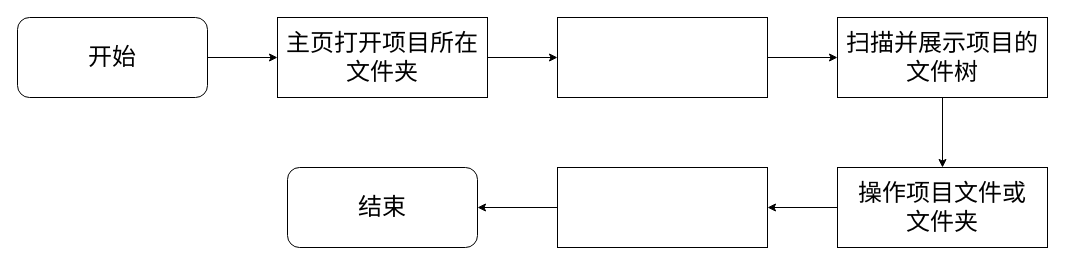
Some shapes in this 1065 by 265 pixel diagram are drawn without their labels. The shapes that lost their labels are listed below. From the top down, each one's centre as x and y in pixels, then its label:
At point 662,57: "跳转到开发页面".
At point 662,207: "同步项目的修改 到本地磁盘".
